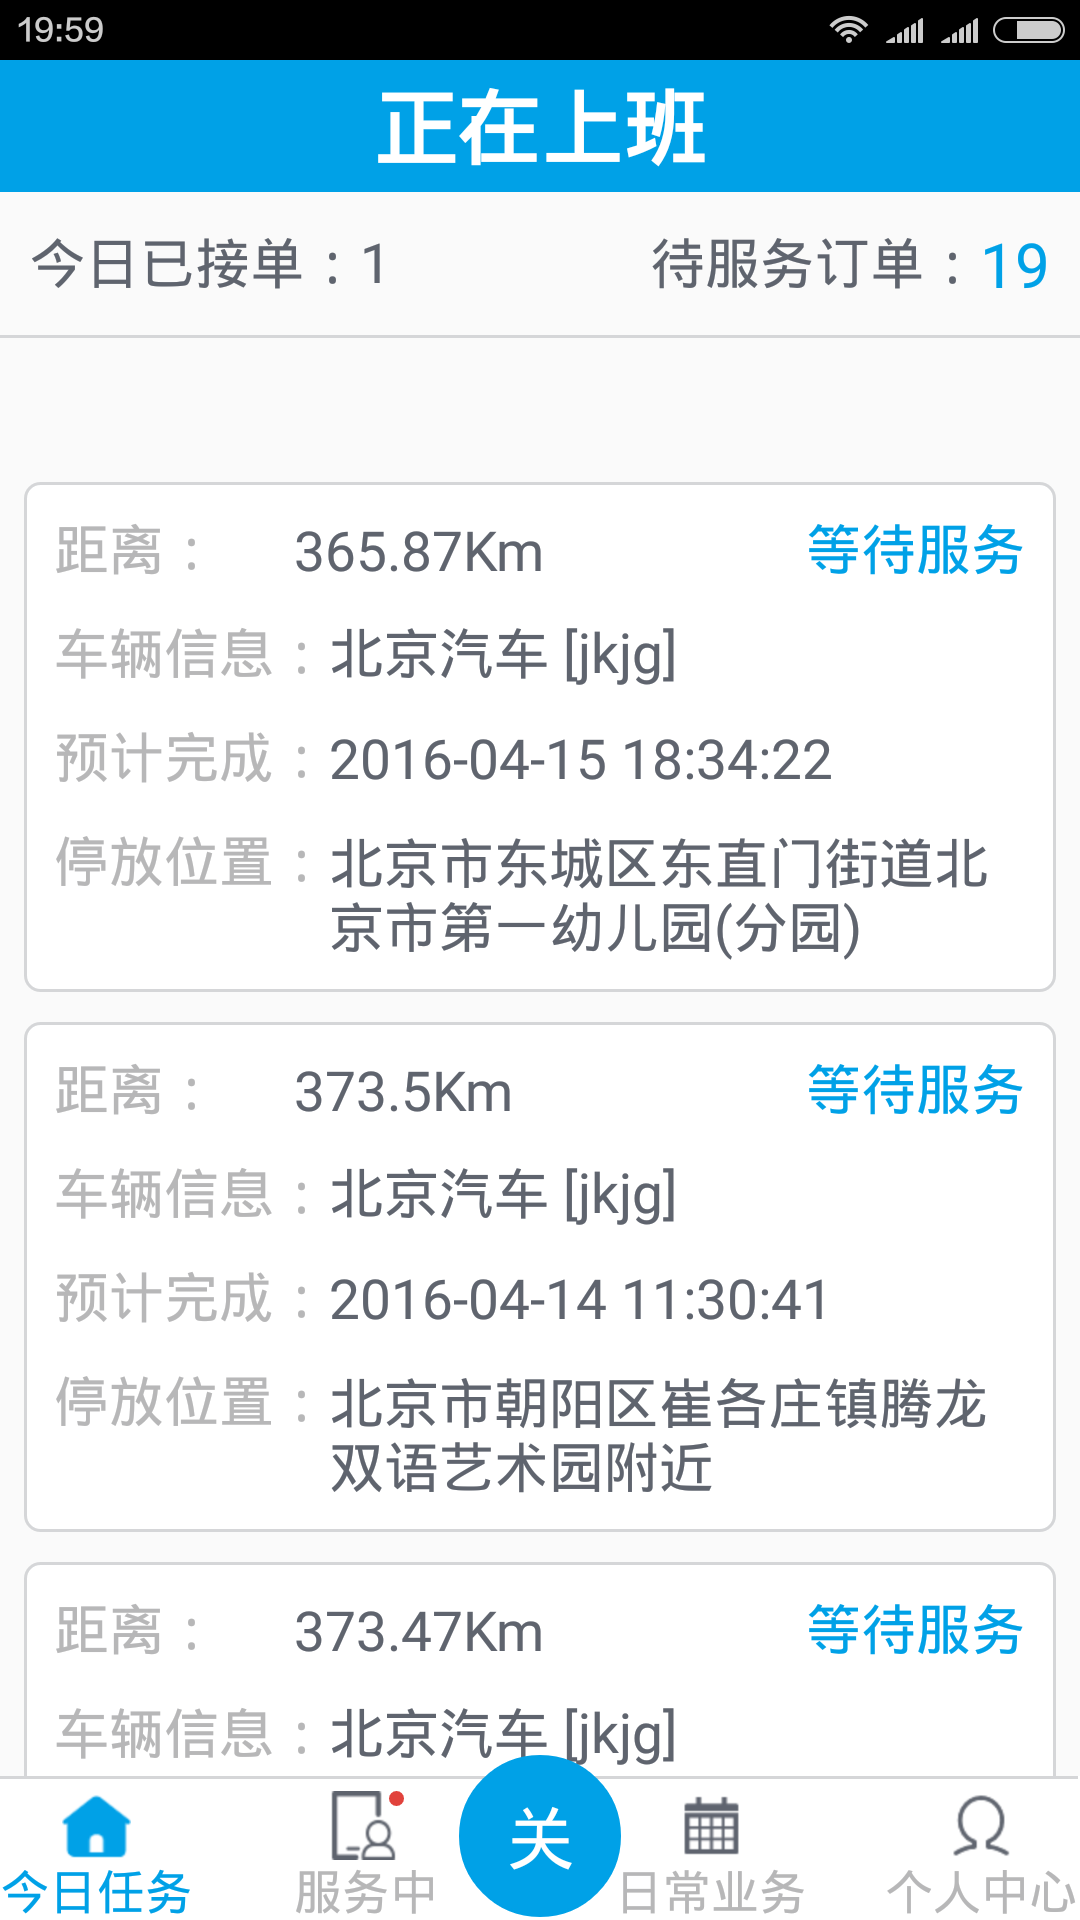nav: (12, 1763, 1080, 1913)
textview: (15, 480, 1063, 1010)
